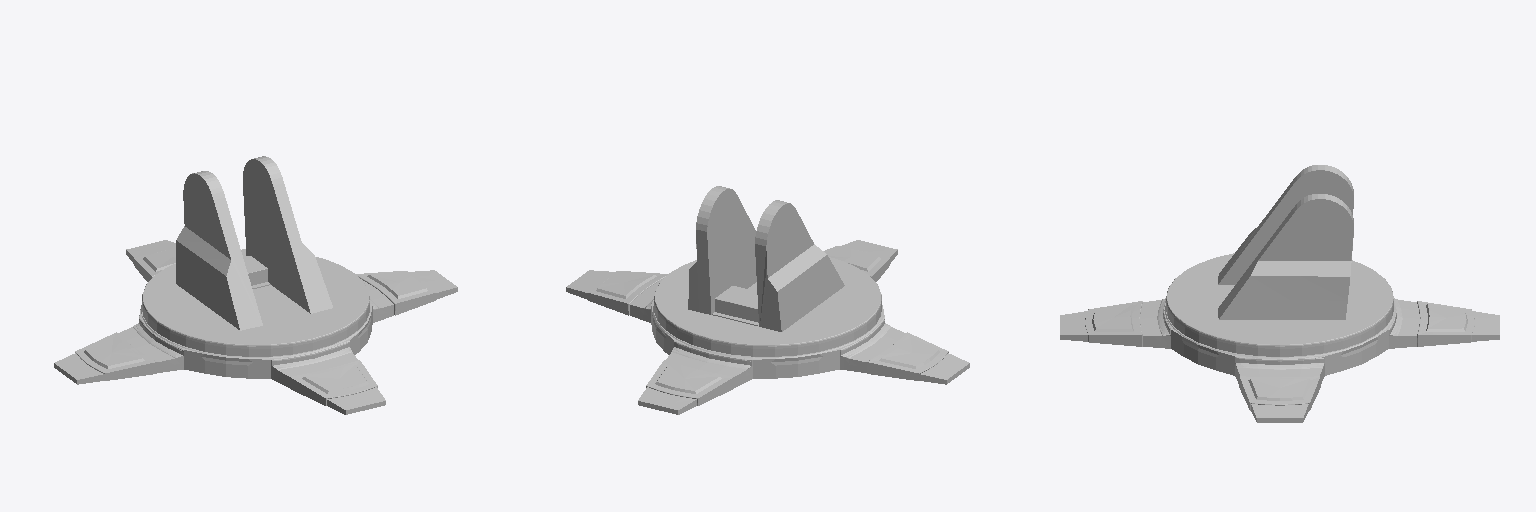
The picture shows the model from 3 angles: view 1: azimuth 30°, elevation 25°; view 2: azimuth 150°, elevation 25°; view 3: azimuth 270°, elevation 25°; orthographic projection.
Visible parts, largest first — view 1: base; view 2: base; view 3: base.
Part boxes in pixels (left/top/right/bottom): base: left=54, top=156, right=457, bottom=414; base: left=566, top=186, right=969, bottom=414; base: left=1060, top=165, right=1499, bottom=422.
Size of the model in its own units: 5.17 by 1.92 by 5.17.